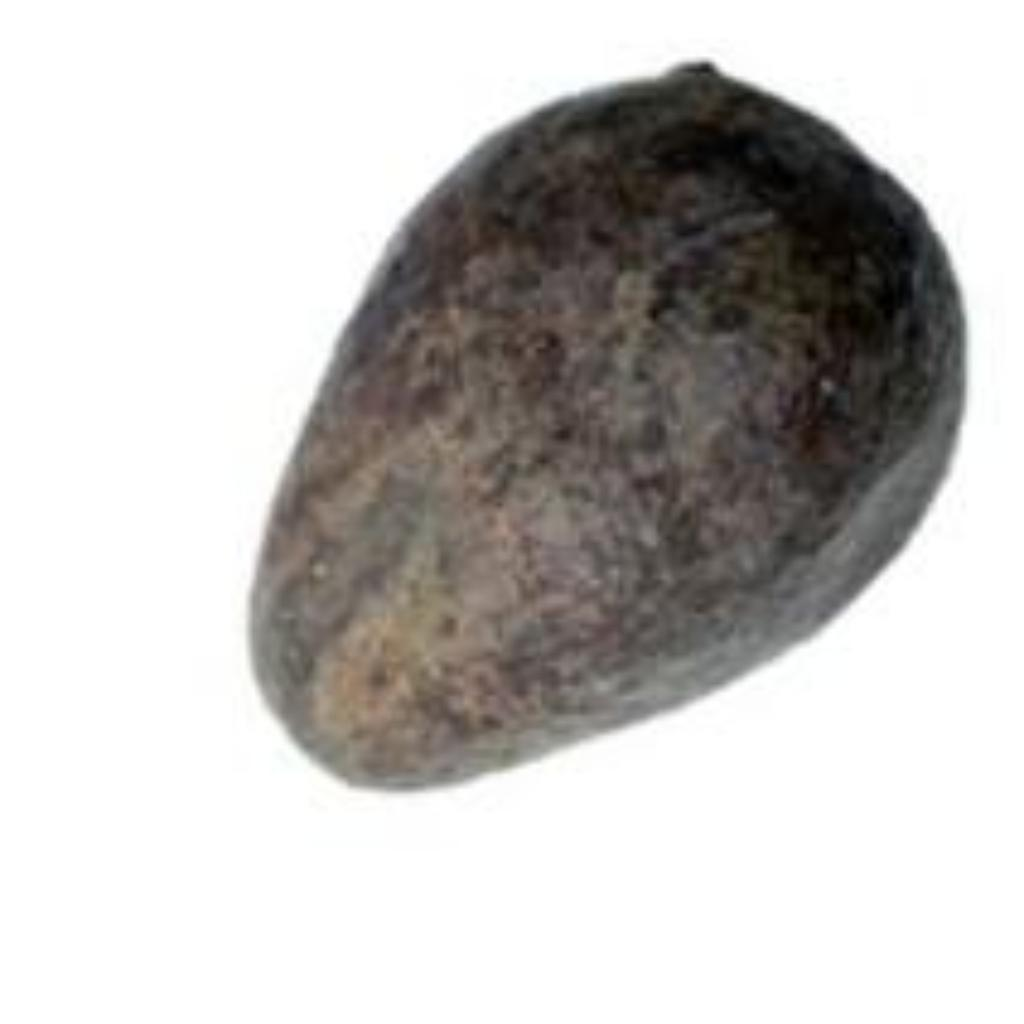Anthracnose: (290, 135, 918, 647)
